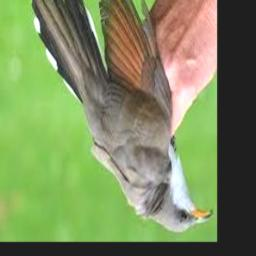Cuckoo: (31, 0, 213, 234)
